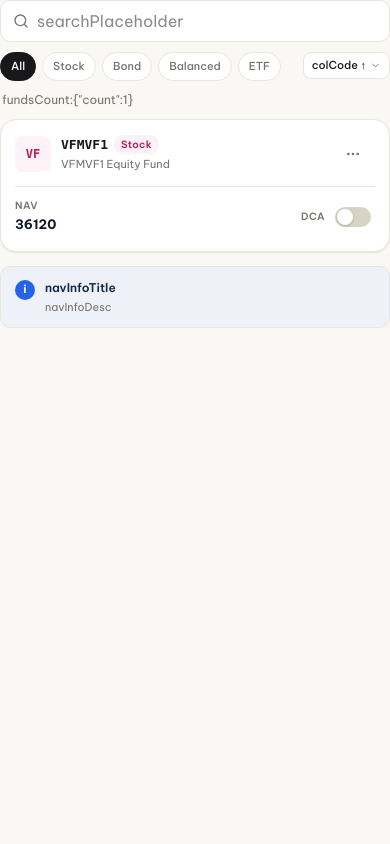
it: MobileFundLibraryView — delete of an in-use fund is hard-blocked with a clear message (#1) › a normal (204) delete still reloads and reports success
Click the button named "fundActions" at (353, 154), box [331,132,375,176]
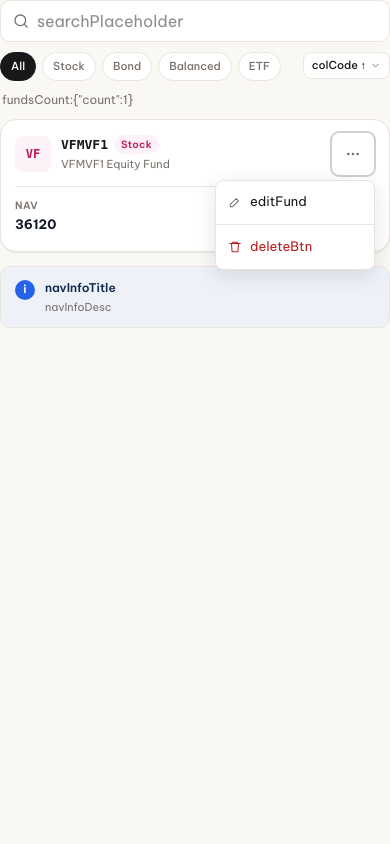
Click the menu item "deleteBtn" at (295, 246), box [216,224,374,268]
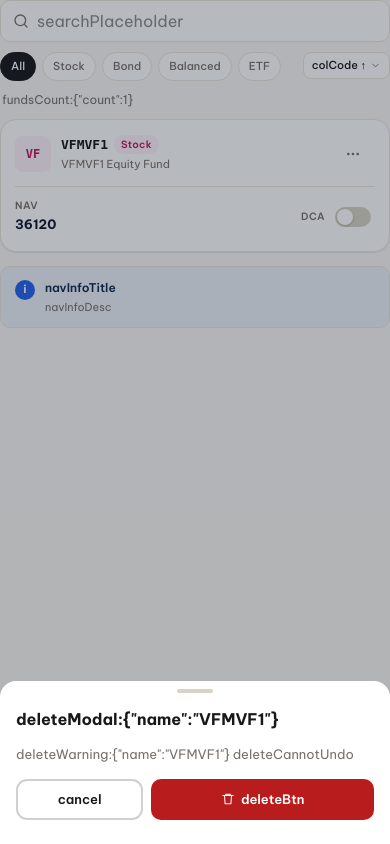
Click the button "deleteBtn" at (263, 799), box [151,778,374,820]
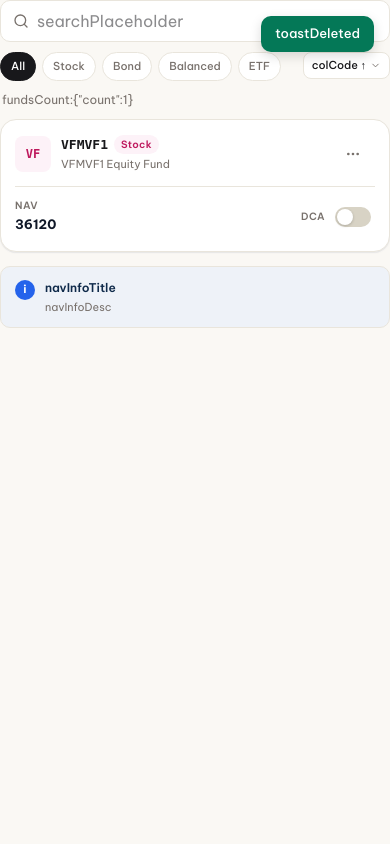
Check: the text "toastDeleted" is shown, box [261,16,374,52]
